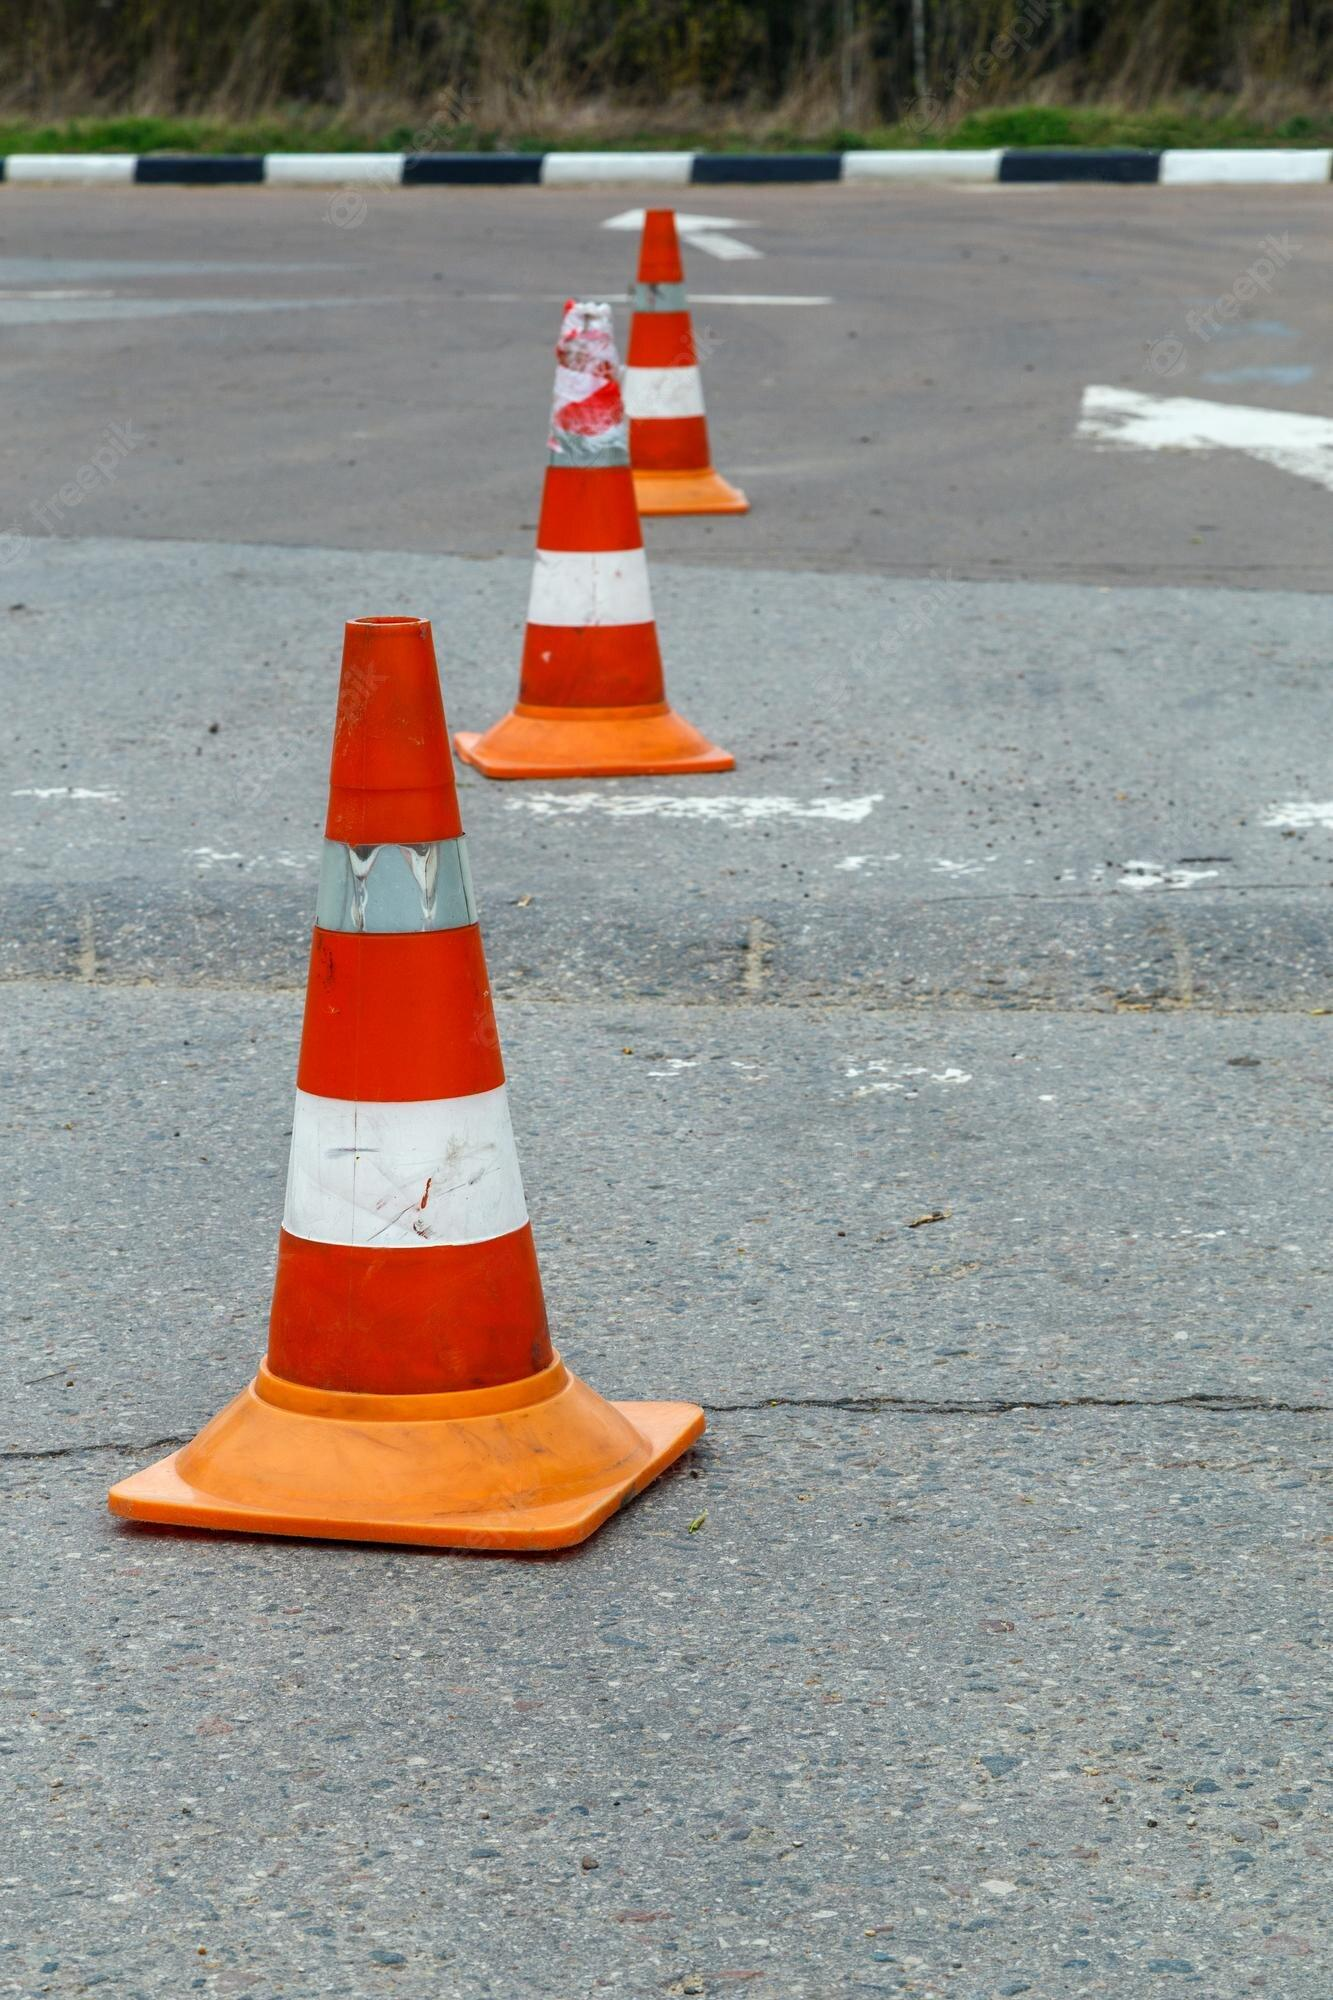traffic cone: (101, 613, 704, 1552), (451, 297, 733, 781), (616, 208, 747, 517), (626, 208, 689, 286)
